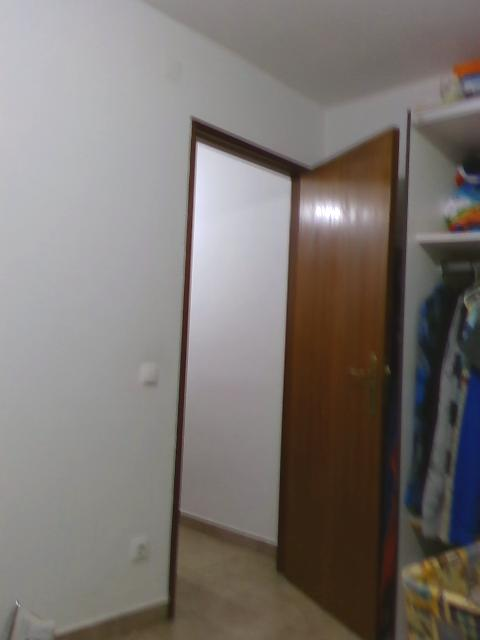open_door: (169, 115, 309, 580)
